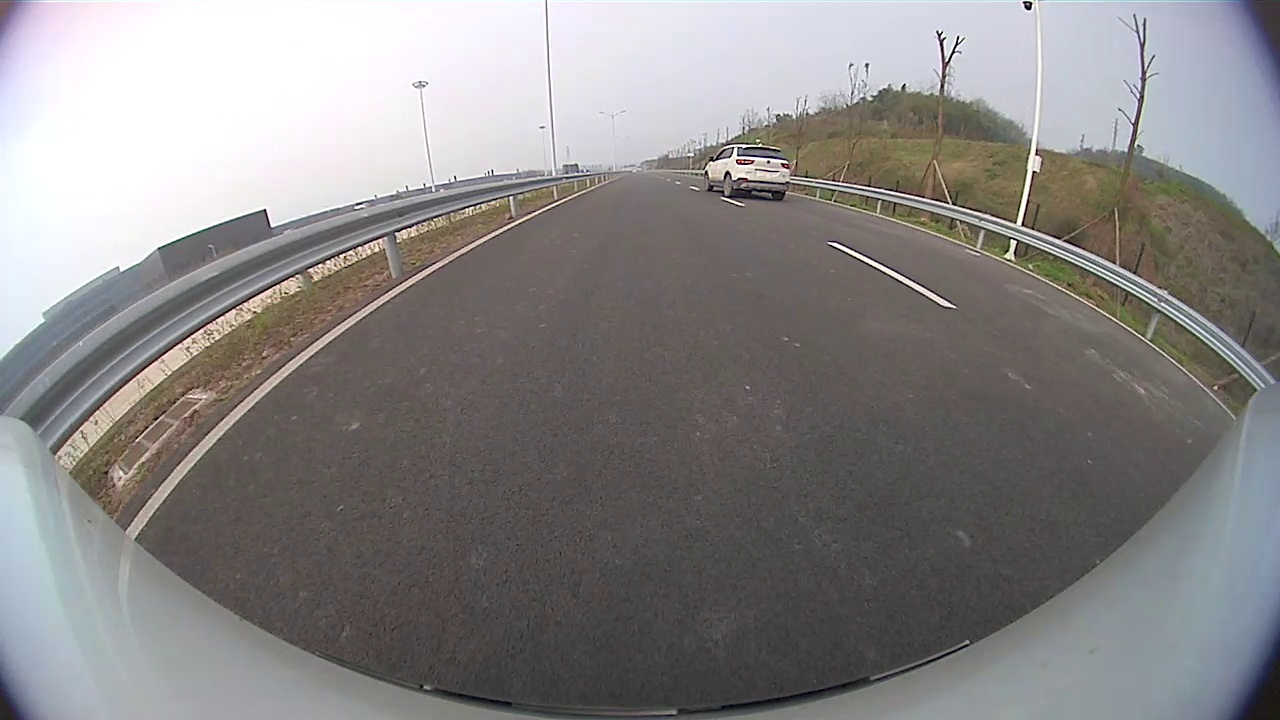car: (702, 143, 792, 201)
front: (702, 170, 712, 194)
rear: (721, 172, 736, 197)
